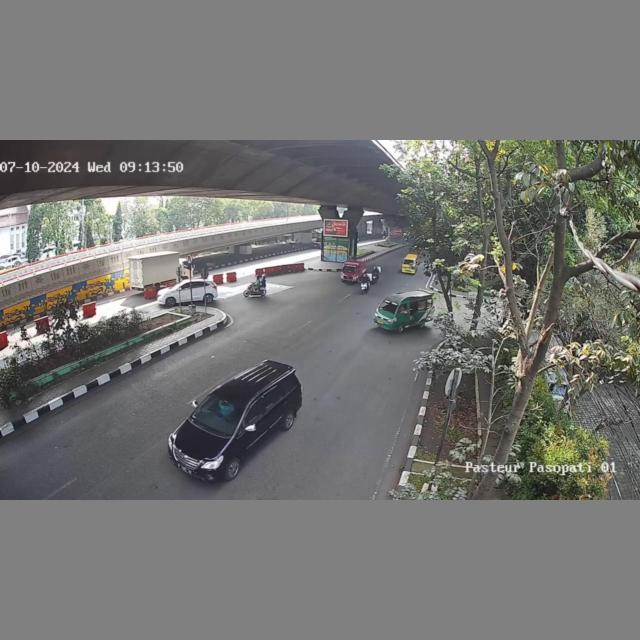windshield: (194, 393, 246, 435), (379, 298, 399, 313)
